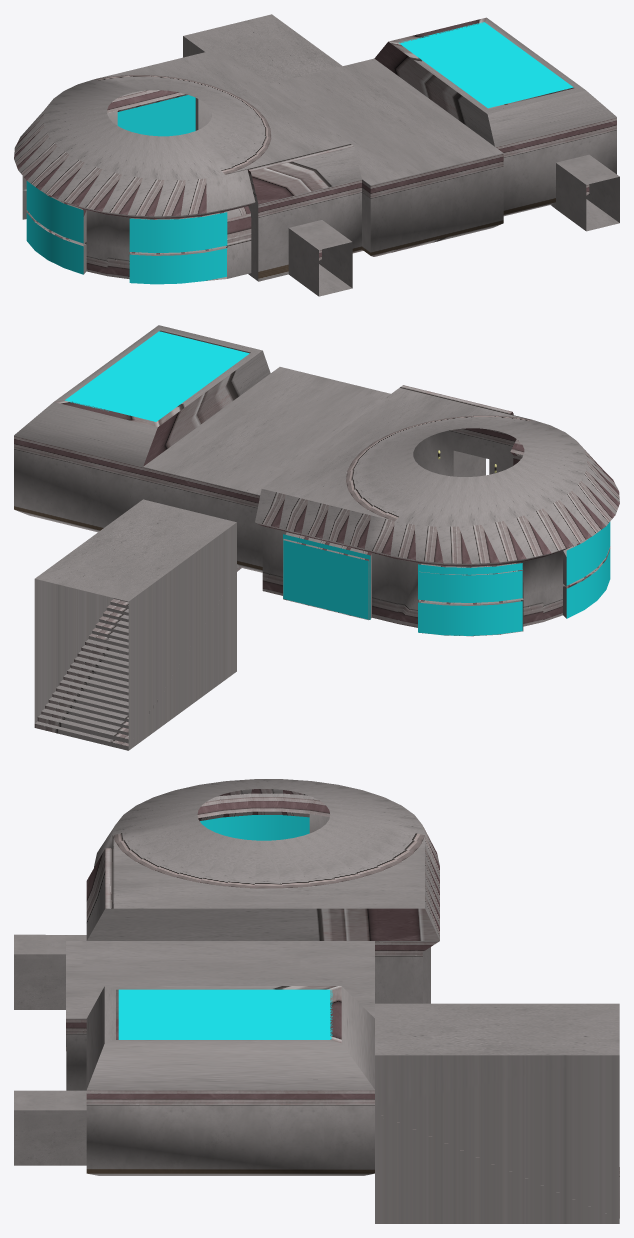
Rendered from Cor1_bldg_Medatation_Room.fbx.
3 renders of one model, top to bottom at view 1: azimuth 30°, elevation 25°; view 2: azimuth 150°, elevation 25°; view 3: azimuth 270°, elevation 25°, orthographic. The views are drawn at different scales.
Visible parts, largest first — view 1: Meditataion_room, glass_window; view 2: Meditataion_room, glass_window; view 3: Meditataion_room, glass_window.
Part boxes in pixels (x1,y1,x2,y2): Meditataion_room: [14, 14, 619, 296]; glass_window: [26, 22, 573, 284]; Meditataion_room: [14, 325, 619, 750]; glass_window: [65, 331, 610, 635]; Meditataion_room: [14, 779, 619, 1223]; glass_window: [118, 815, 332, 1039].
Size of what is drawn, in the model's own units: 4579 by 1851 by 3960.
